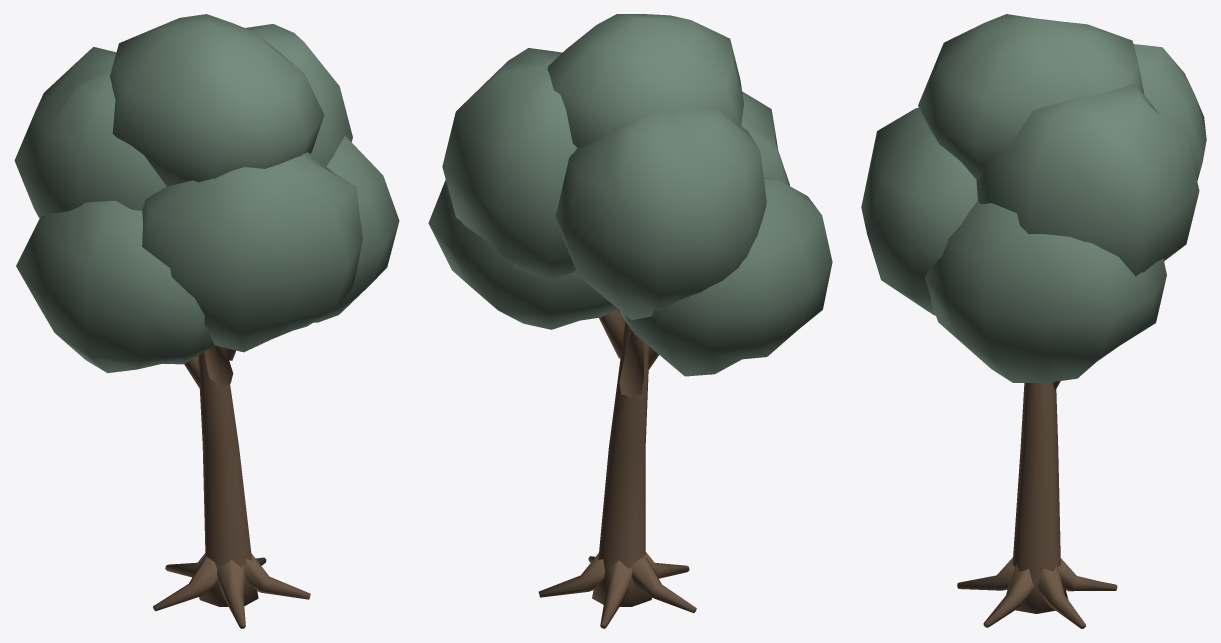
The model's file is tree-03-sage.glb.
The picture shows the model from 3 angles, left to right: view 1: azimuth 30°, elevation 25°; view 2: azimuth 150°, elevation 25°; view 3: azimuth 270°, elevation 25°; orthographic projection.
Parts seen in each view (by area): view 1: tree-03-sage; view 2: tree-03-sage; view 3: tree-03-sage.
Part boxes in pixels (x1,y1,x2,y2): tree-03-sage: [14, 14, 399, 628]; tree-03-sage: [428, 14, 832, 628]; tree-03-sage: [861, 14, 1206, 628].
Size of the model in its own units: 4.23 by 6.7 by 3.66.
